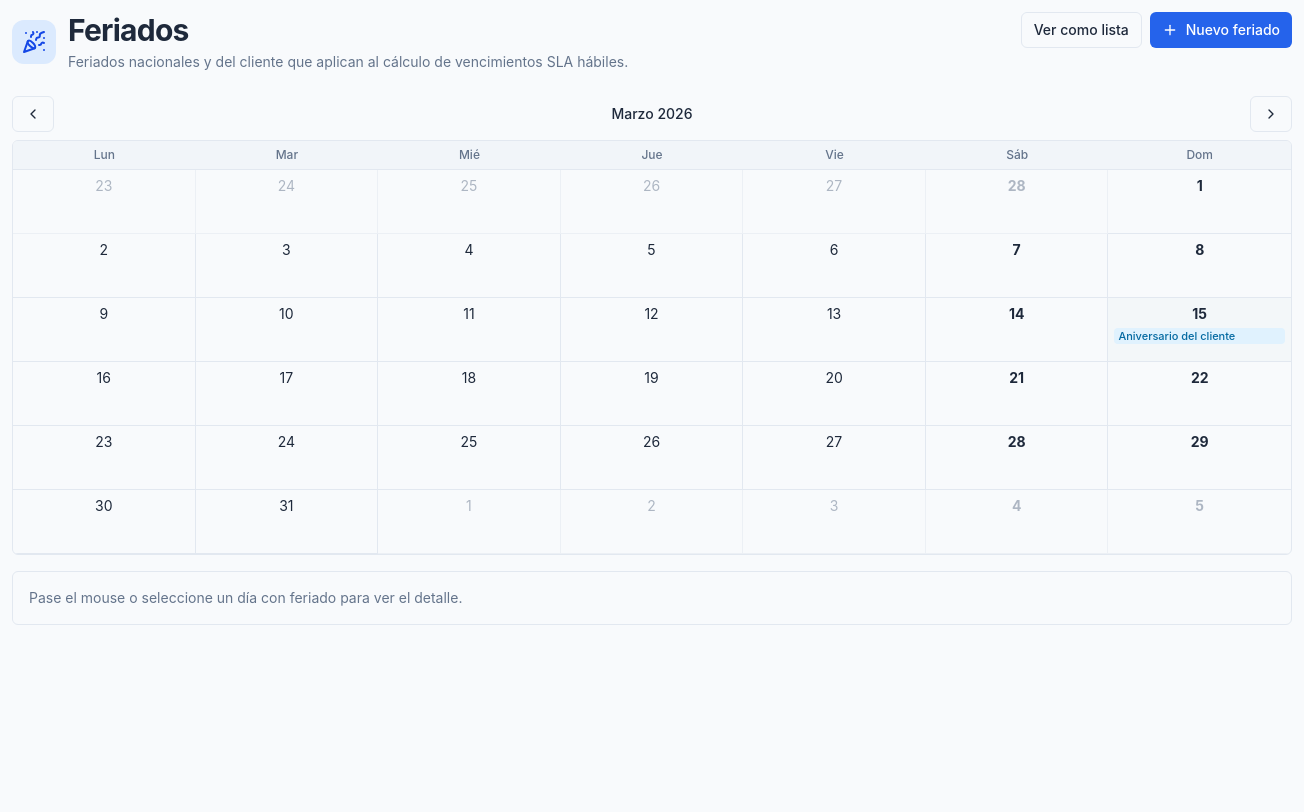
Scenario: FeriadosListView — escritura (task 8.1/8.2, WU8b) › ADMINISTRADOR ve Acciones solo en la fila CLIENTE, nunca en las filas GLOBAL
Click the button "Ver como lista" at x=1081, y=30, box [1021, 12, 1142, 48]
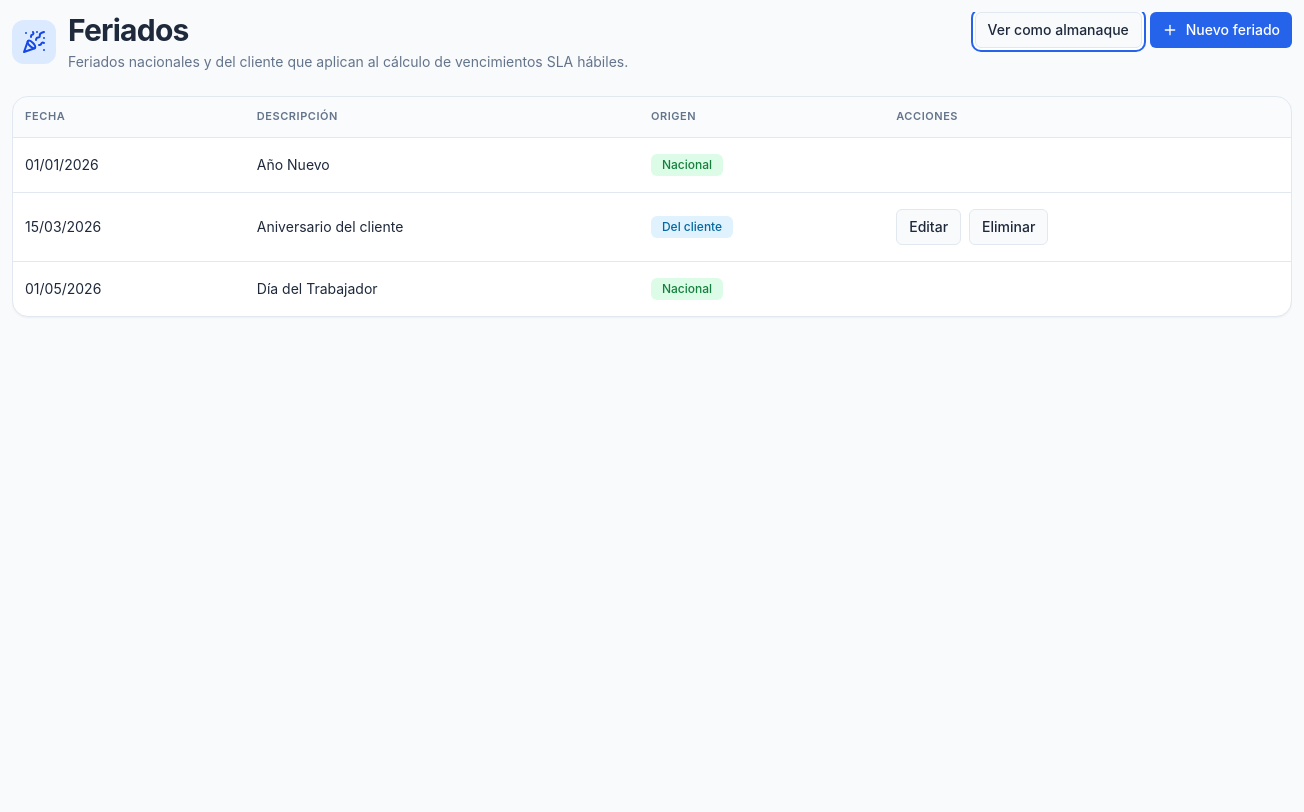
Expected: the text "Año Nuevo" is shown, [245, 137, 639, 192]
Expected: the button "Editar" is shown, [896, 208, 961, 244]
Expected: the button "Eliminar" is shown, [969, 208, 1048, 244]
